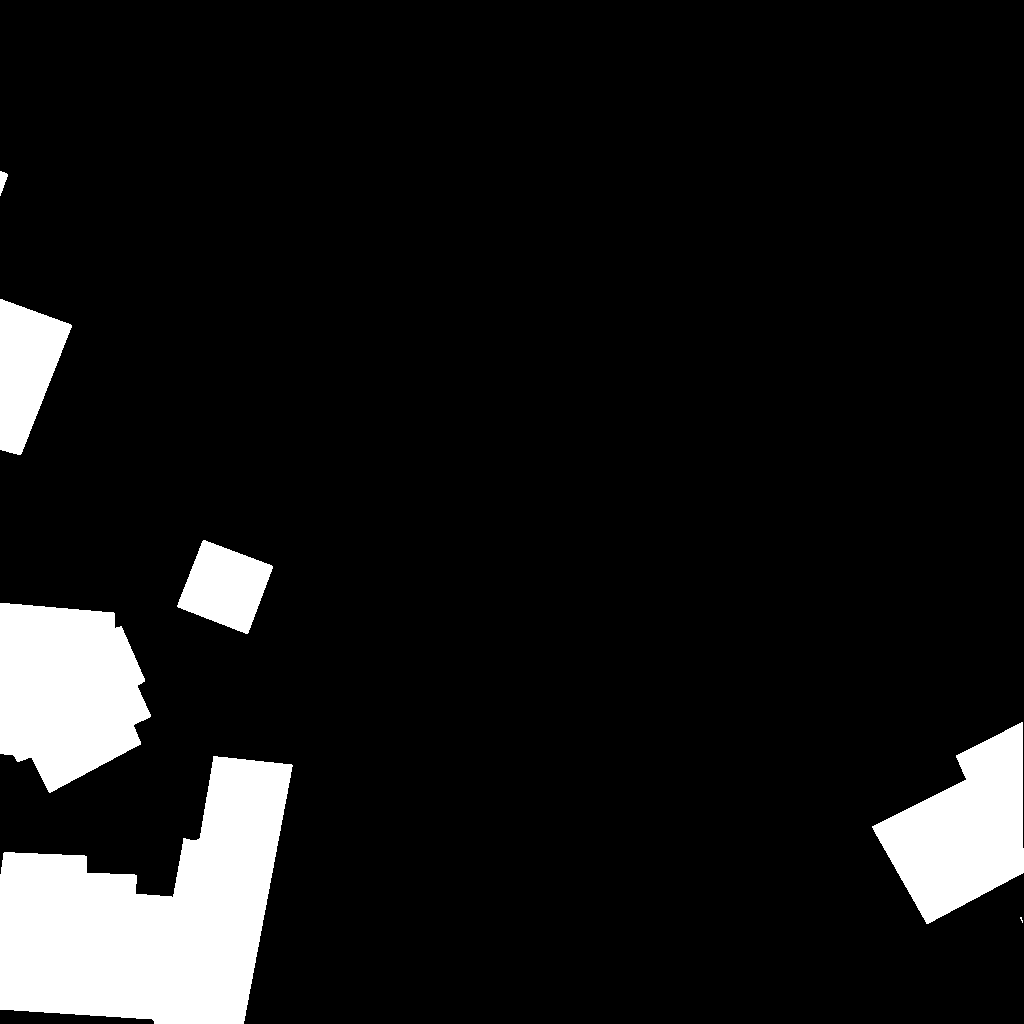building: (0, 756, 294, 1024), (872, 722, 1024, 925), (0, 603, 152, 794), (0, 171, 73, 456), (177, 540, 274, 635), (1020, 917, 1024, 924)
